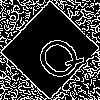Q: (25, 25, 88, 87)
